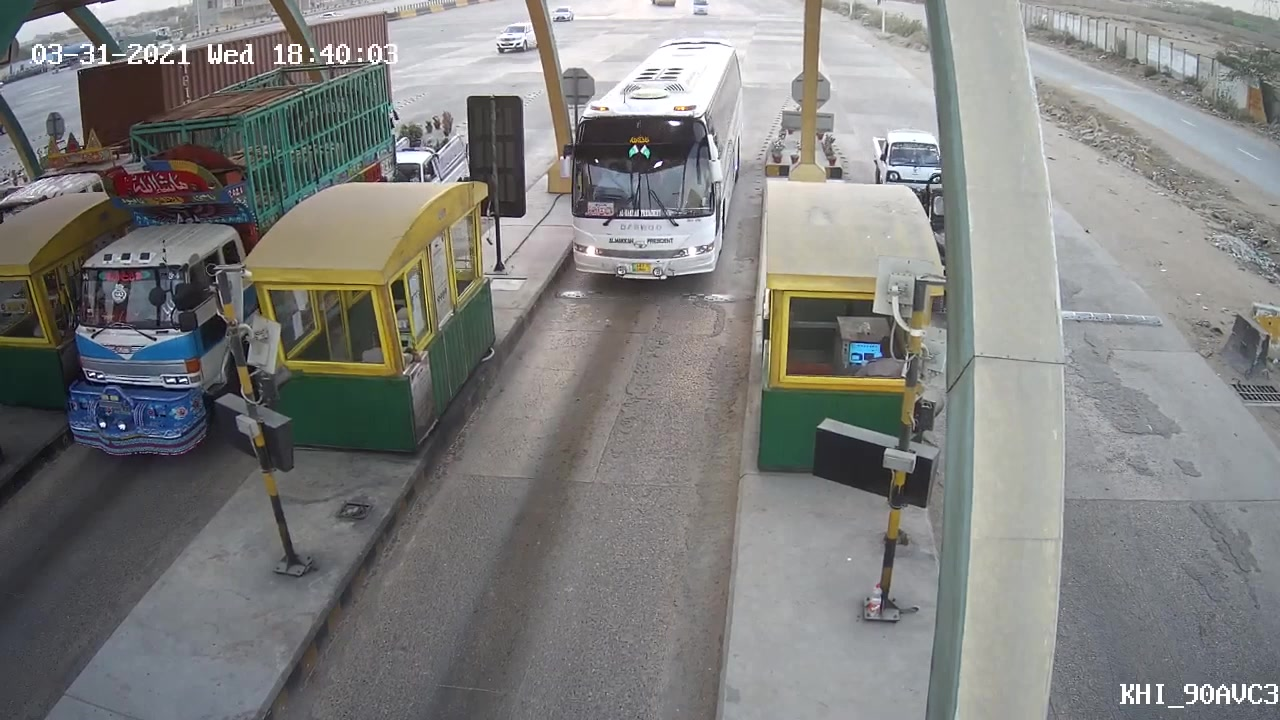F4: (536, 86, 741, 295)
